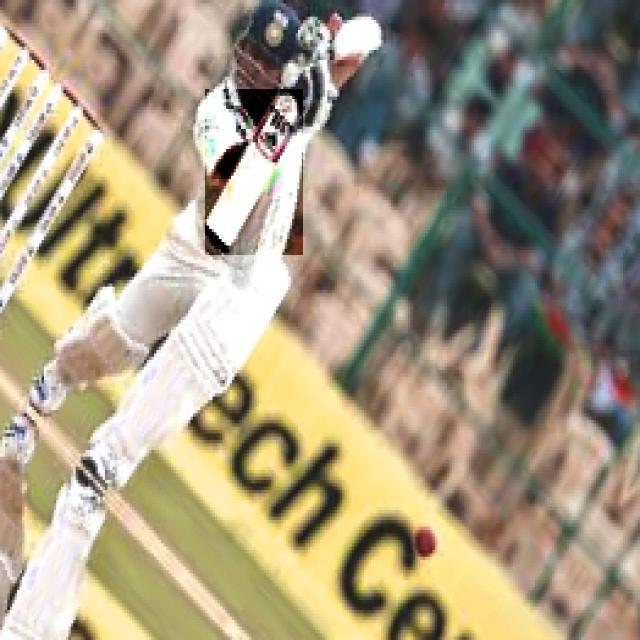bat: (204, 89, 305, 254)
toe: (204, 225, 229, 253)
